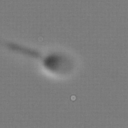normal: (1, 29, 43, 60)
